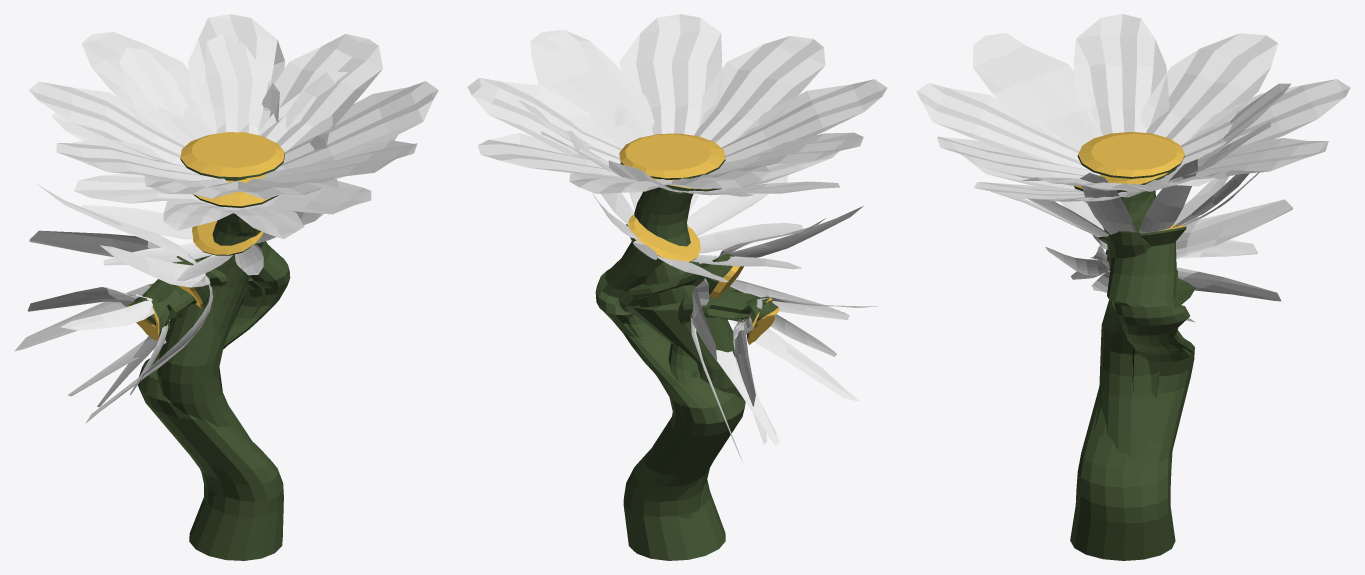
3 renders of one model, left to right at view 1: azimuth 30°, elevation 25°; view 2: azimuth 150°, elevation 25°; view 3: azimuth 270°, elevation 25°, orthographic.
Parts seen in each view (by area): view 1: Flower, Flower.001, Stem.002, Stem, Flower.003, Flower.002, Flower.004, Stem.001, Stem.003, Stem.006, Stem.004; view 2: Flower, Stem.002, Stem, Flower.003, Flower.002, Stem.003, Flower.001, Stem.006, Flower.004, Stem.004; view 3: Flower, Stem.002, Stem, Flower.002, Flower.003, Flower.001, Stem.003, Stem.001, Flower.004.
Boxes of the visible parts, x1,y1,x2,y2 form: Flower: (29,14,438,199); Flower.001: (51,33,397,239); Stem.002: (138,221,290,560); Stem: (157,132,284,505); Flower.003: (14,183,212,422); Flower.002: (82,83,329,281); Flower.004: (27,287,168,407); Stem.001: (193,174,278,387); Stem.003: (172,256,265,446); Stem.006: (127,279,196,329); Stem.004: (134,295,169,340); Flower: (467,14,887,193); Stem.002: (595,215,745,560); Stem: (619,133,743,518); Flower.003: (690,206,863,461); Flower.002: (565,102,802,281); Stem.003: (618,253,743,464); Flower.001: (518,99,839,196); Stem.006: (668,286,779,383); Flower.004: (733,295,877,444); Stem.004: (719,296,774,344); Flower: (916,14,1350,192); Stem.002: (1070,224,1194,560); Stem: (1077,131,1195,458); Flower.002: (990,159,1259,237); Flower.003: (1045,199,1292,322); Flower.001: (967,83,1290,202); Stem.003: (1094,249,1191,449); Stem.001: (1074,166,1178,376); Flower.004: (1071,240,1257,279).
Size of the model in its own units: 735 by 858 by 759.
